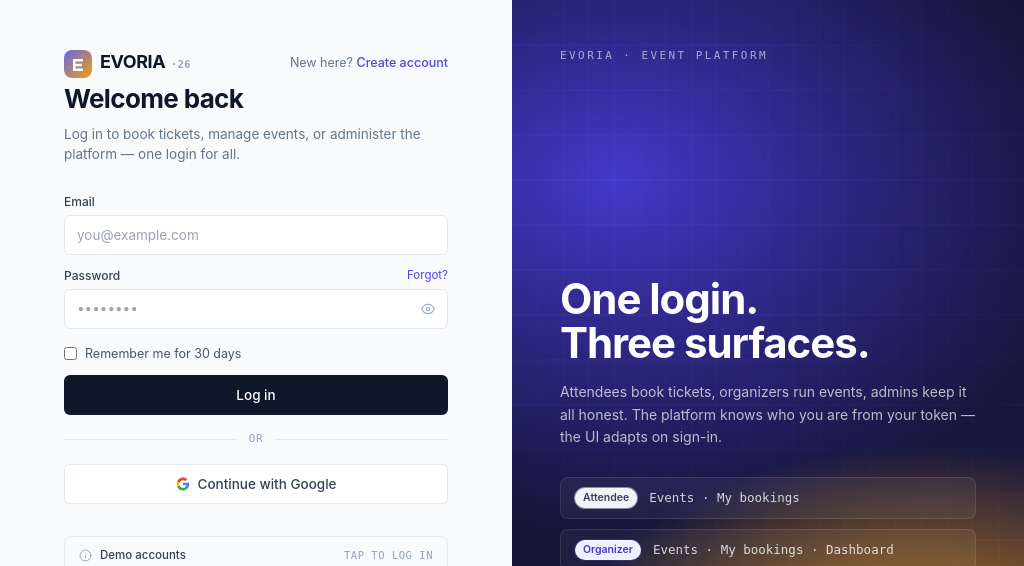
Test: LoginPage › refuses to submit when fields are empty
What coordinates should you click on to do the following:
click the button "Log in"
I would click on:
 (256, 395)
Its box is [64,375,448,415].
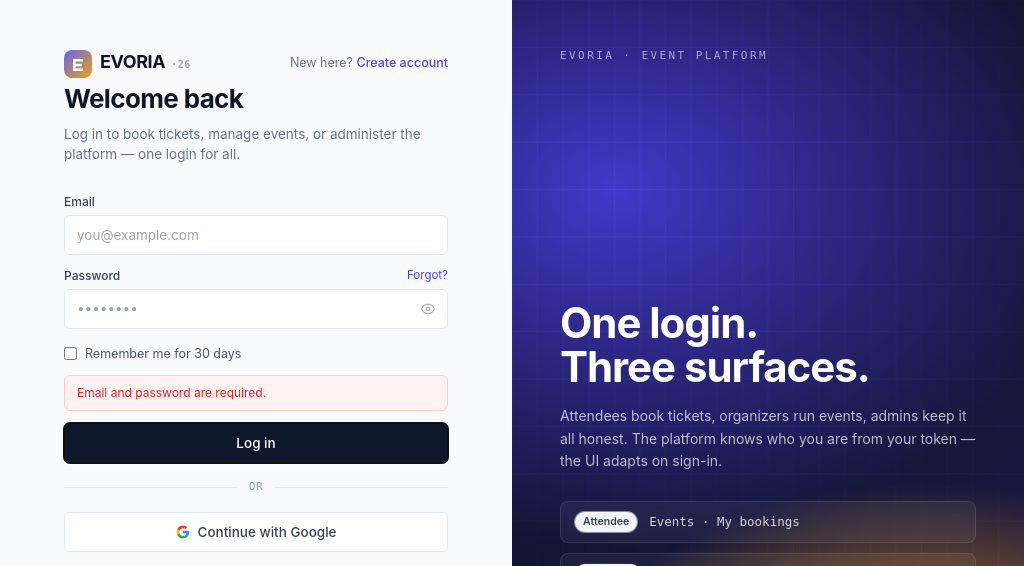
Now the message shows "Email and password are required", box [77,385,266,400]
